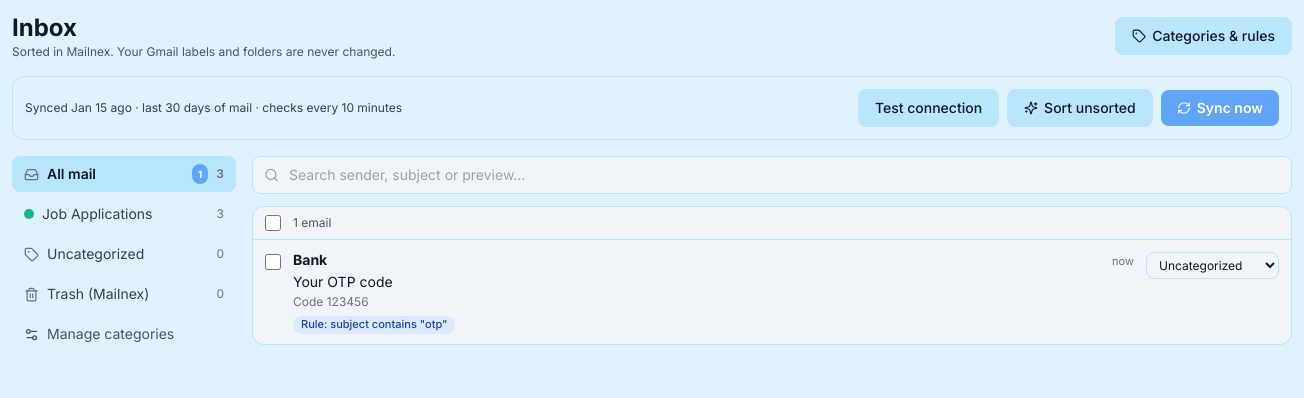
Test case: Inbox page › shows the job pipeline only for a category that tracks stages
The image size is (1304, 398).
Expected: the text "Your OTP code" is shown, [293, 272, 393, 292]
Expected: the text "Interview" is not shown
Click the text "Job Applications" at (97, 214), box [42, 205, 152, 222]
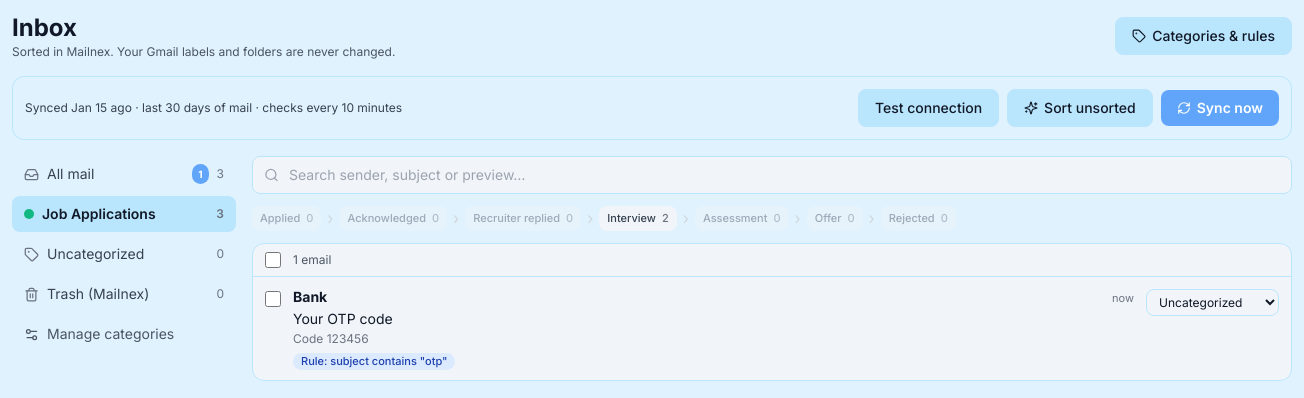
Now the button "Interview 2" is shown, box [599, 206, 677, 230]
